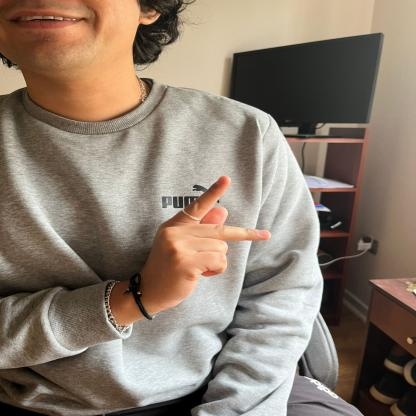K: (144, 172, 274, 310)
